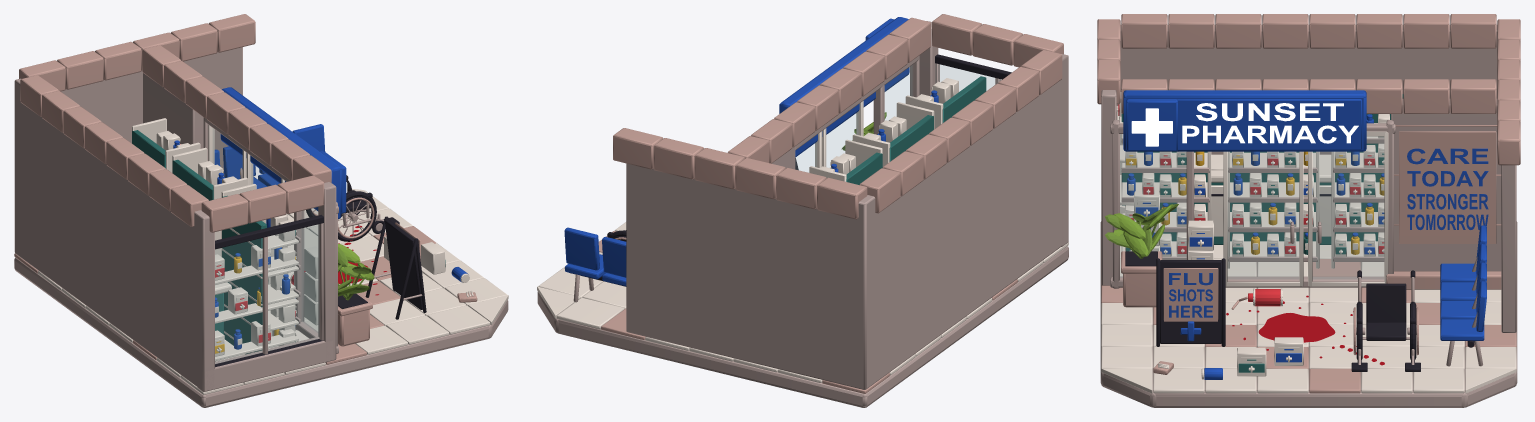
Rendered from int.pharmacy-clinic.glb.
The picture shows the model from 3 angles, left to right: view 1: azimuth 30°, elevation 25°; view 2: azimuth 150°, elevation 25°; view 3: azimuth 270°, elevation 25°; orthographic projection. The views are drawn at different scales.
Parts seen in each view (by area): view 1: interior, object 6, door_R_keep_glass; view 2: interior, door_L_keep_glass; view 3: interior, door_R_keep_glass, door_L_keep_glass, door_R, door_L, object 6.
Boxes of the visible parts, x1,y1,x2,y2 form: interior: (14,14,508,407); object 6: (306,179,383,241); door_R_keep_glass: (213,129,241,178); interior: (537,14,1068,407); door_L_keep_glass: (827,112,857,167); interior: (1097,14,1520,407); door_R_keep_glass: (1313,137,1383,278); door_L_keep_glass: (1228,152,1298,278); door_R: (1308,131,1388,286); door_L: (1223,151,1303,286); object 6: (1353,301,1418,362).
Size of the model in its own units: 6.3 by 3.62 by 6.35.
